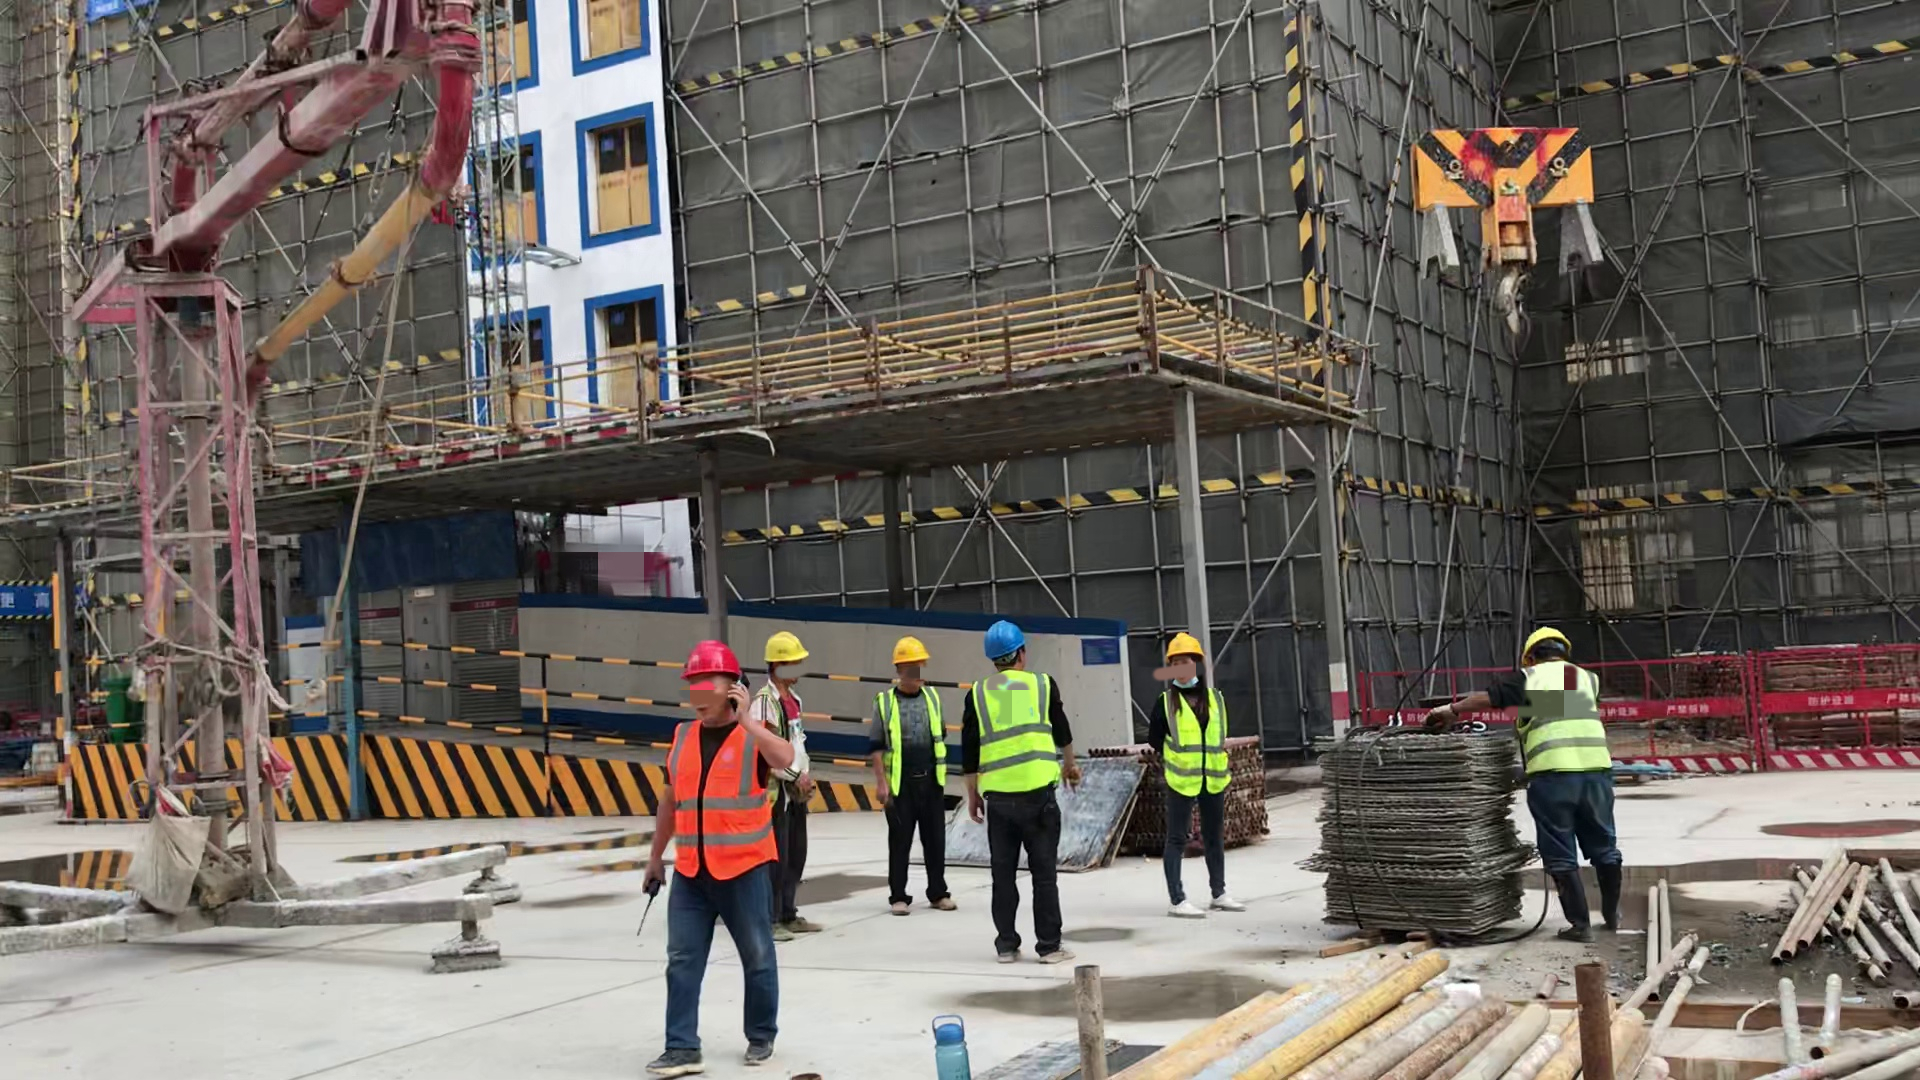fence: (1629, 650, 1920, 768)
helmet: (682, 642, 741, 679), (1521, 629, 1570, 658), (984, 624, 1025, 658), (765, 631, 807, 659), (893, 636, 929, 663), (1167, 635, 1204, 659)
hook: (1411, 129, 1609, 337)
person: (651, 646, 775, 1076), (1498, 629, 1620, 947), (965, 626, 1074, 961), (1156, 637, 1236, 916), (875, 639, 955, 914), (758, 631, 820, 945)
scaffold: (1043, 947, 1658, 1080), (1221, 730, 1273, 850)
slogan: (5, 581, 61, 627)
vest: (667, 720, 779, 879), (1517, 662, 1613, 774), (975, 669, 1059, 788), (1162, 689, 1232, 797), (883, 688, 948, 789)
